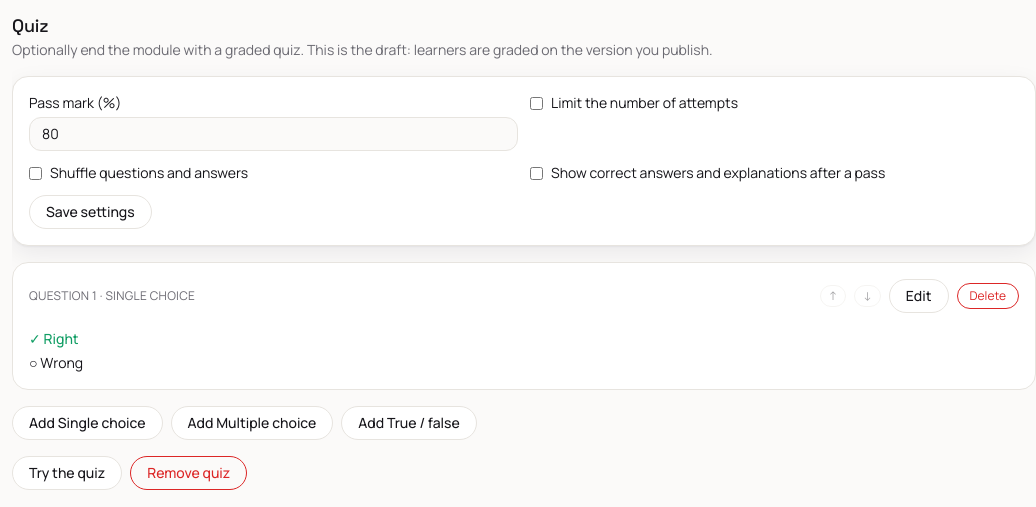
Test: ModuleQuizPanel › saves changed settings, including an attempt cap
The width and height of the screenshot is (1036, 507).
Replace the text in the number field labelled "Pass mark (%)" with "60" at x=274, y=134, box [29,117,518,151]
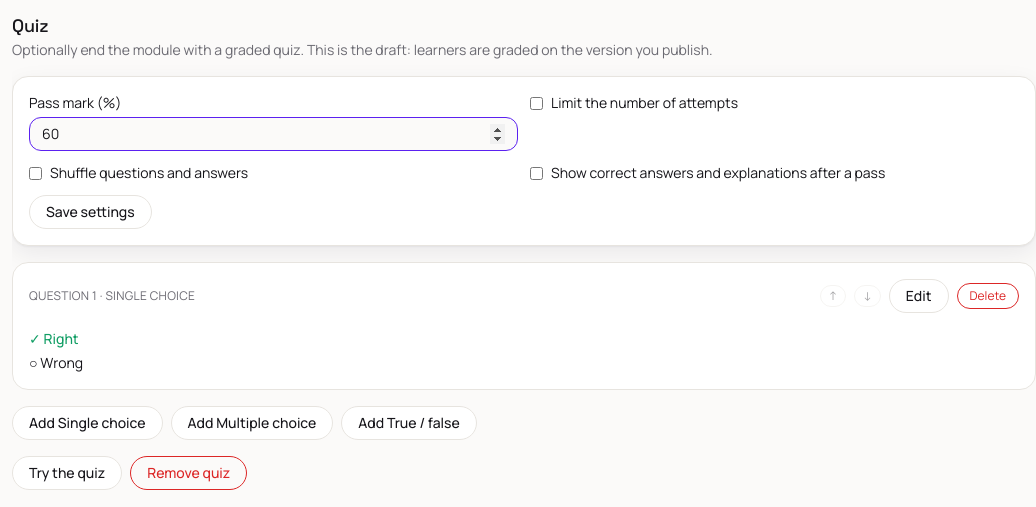
Click the checkbox labelled "Limit the number of attempts" at x=536, y=103, box [530,96,543,110]
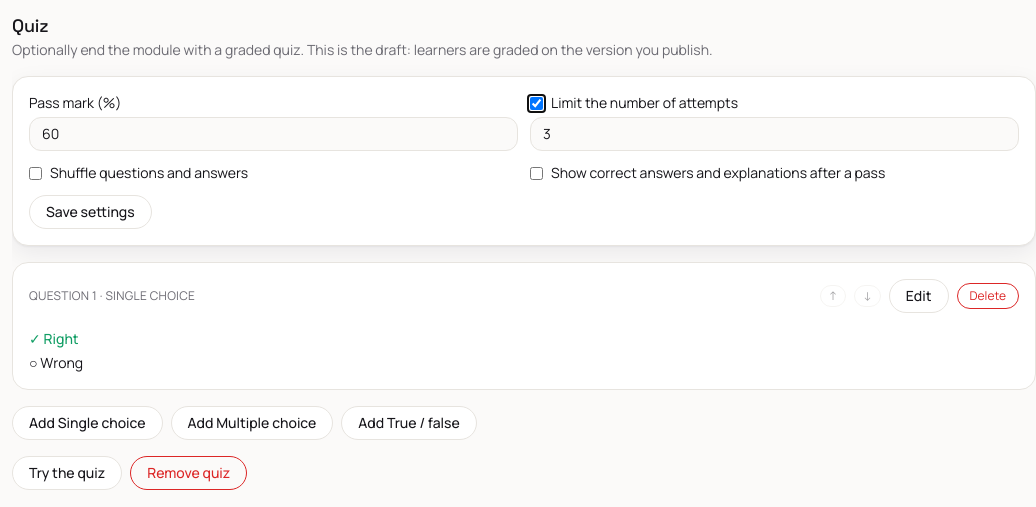
Replace the text in the number field named "Maximum attempts" with "2" at x=774, y=134, box [530,117,1019,151]
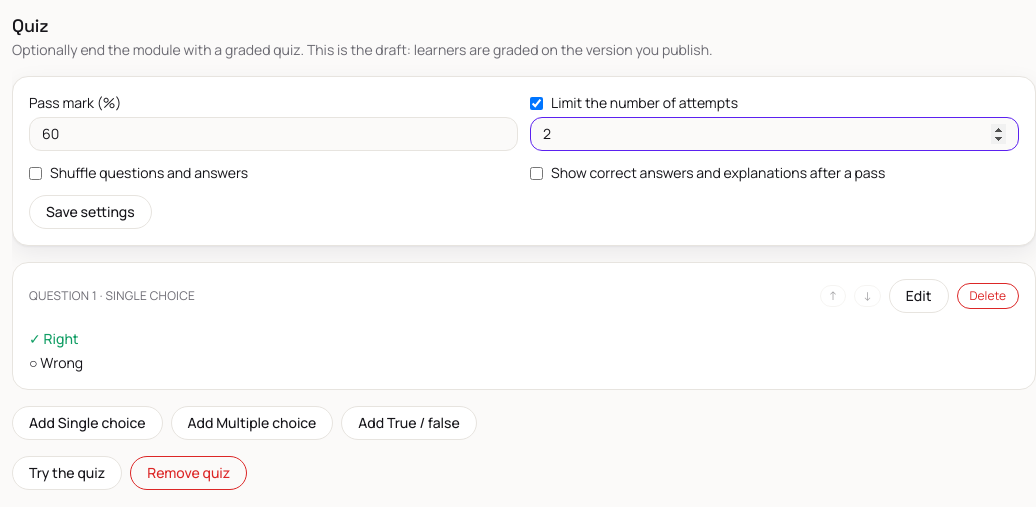
Click the checkbox labelled "Shuffle questions and answers" at x=36, y=173, box [29,166,42,180]
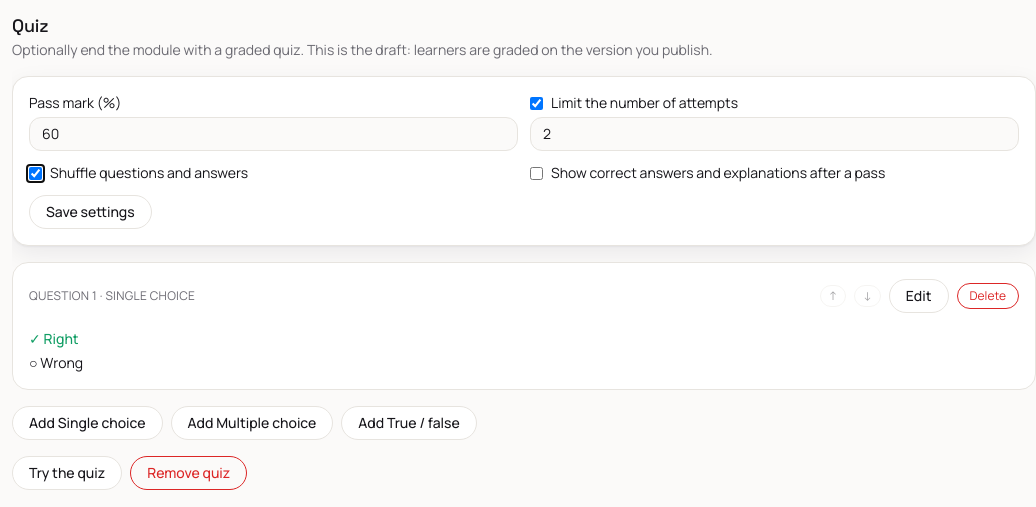
Click the button "Save settings" at x=90, y=212, box [29,195,152,229]
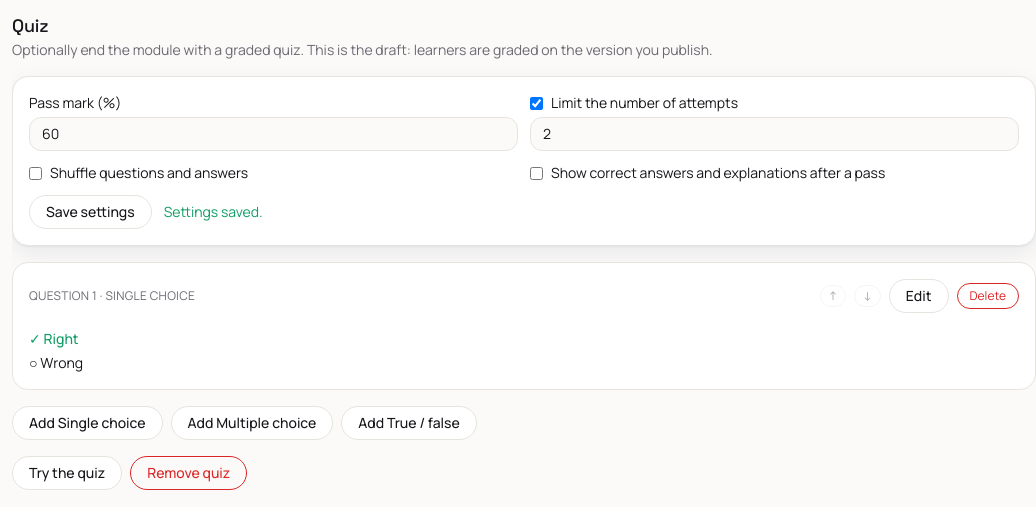
Check: the text "Settings saved." is shown, box [164,202,263,222]
